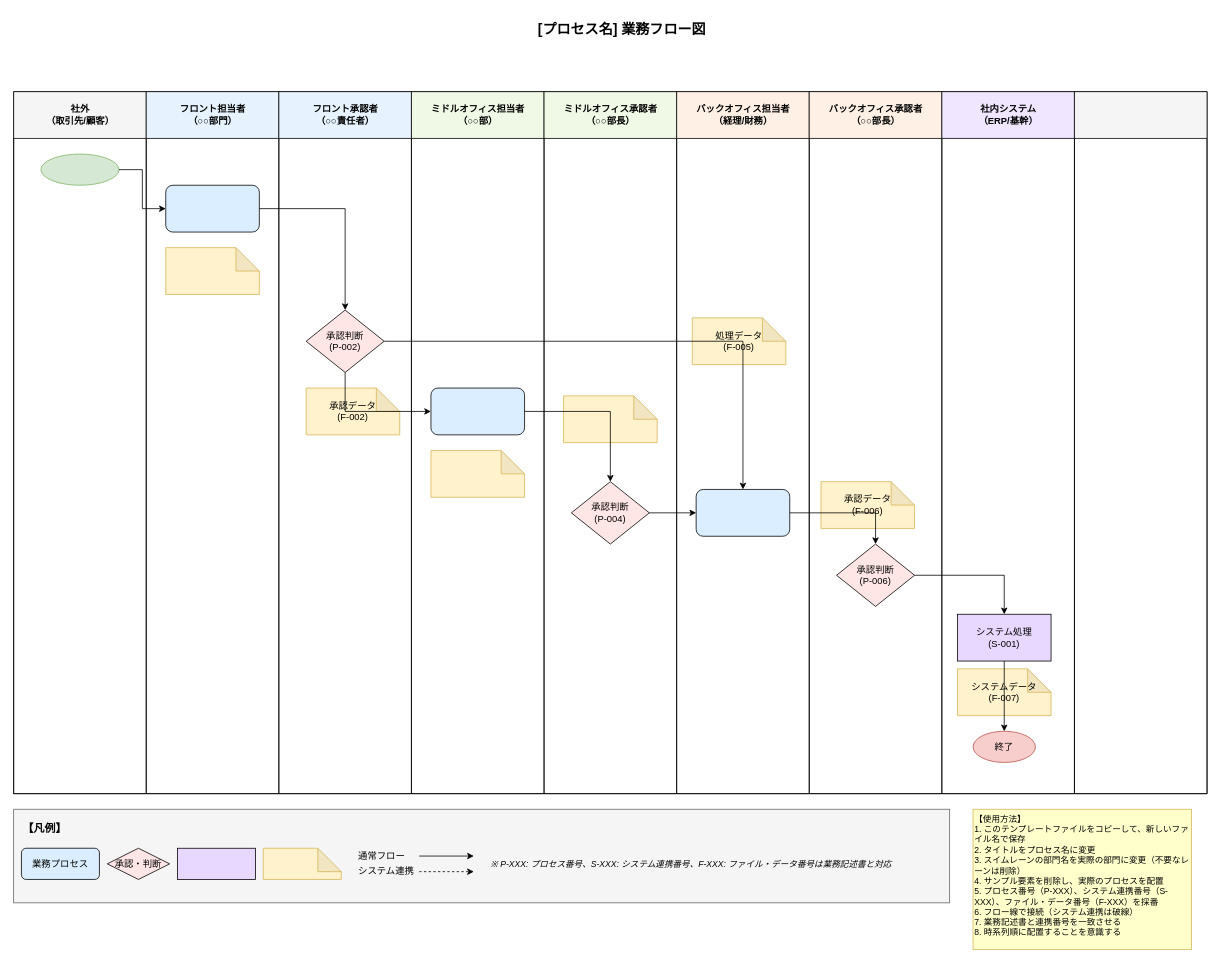
Image size: 1221x963. Some labels were removed from this diagram. Each missing label, with the centre of its shape:
"システム処理" goes at point (216, 863).
"ファイル・データ" goes at point (301, 863).
"プロセス名 (P-001)" goes at point (212, 208).
"プロセス名 (P-003)" goes at point (477, 411).
"プロセス名 (P-005)" goes at point (742, 512).
"処理データ (F-003)" goes at point (477, 473).
"承認データ (F-004)" goes at point (610, 419).
"申請書 (F-001)" goes at point (212, 270).
"社外サービス （SaaS/銀行）" goes at point (1140, 442).
"開始" goes at point (79, 169).
